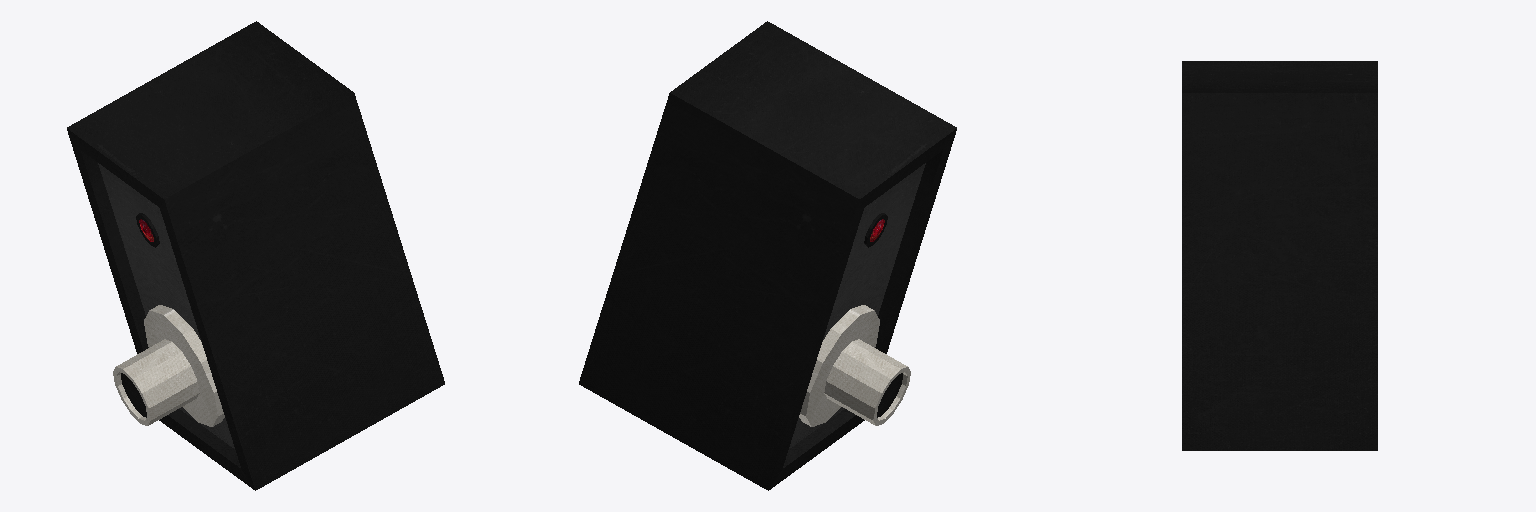
3 renders of one model, left to right at view 1: azimuth 30°, elevation 25°; view 2: azimuth 150°, elevation 25°; view 3: azimuth 270°, elevation 25°, orthographic.
Visible parts, largest first — view 1: Camara; view 2: Camara; view 3: Camara.
Boxes of the visible parts, x1=… form: Camara: x1=67, y1=21, x2=444, y2=490; Camara: x1=579, y1=21, x2=956, y2=490; Camara: x1=1182, y1=61, x2=1377, y2=450.
Size of the model in its own units: 0.3907 by 0.4967 by 0.2355.
4 materials, 4 textured.